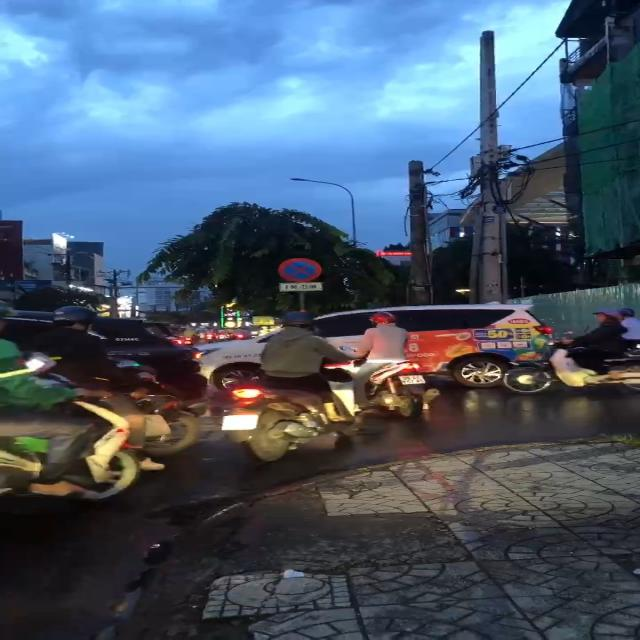Bien bao cam dung xe va do xe: (277, 255, 324, 284)
